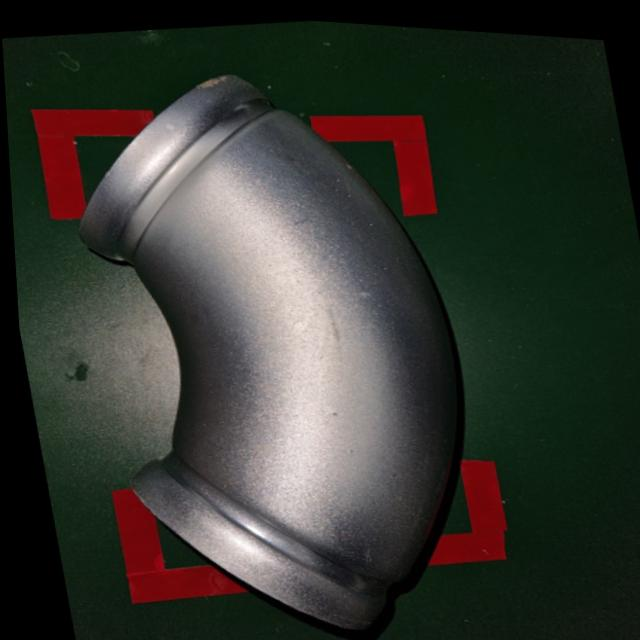Normal: (27, 28, 529, 640)
